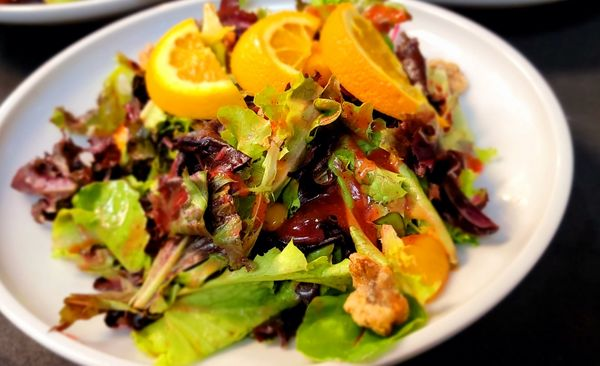taco: (229, 11, 319, 96)
